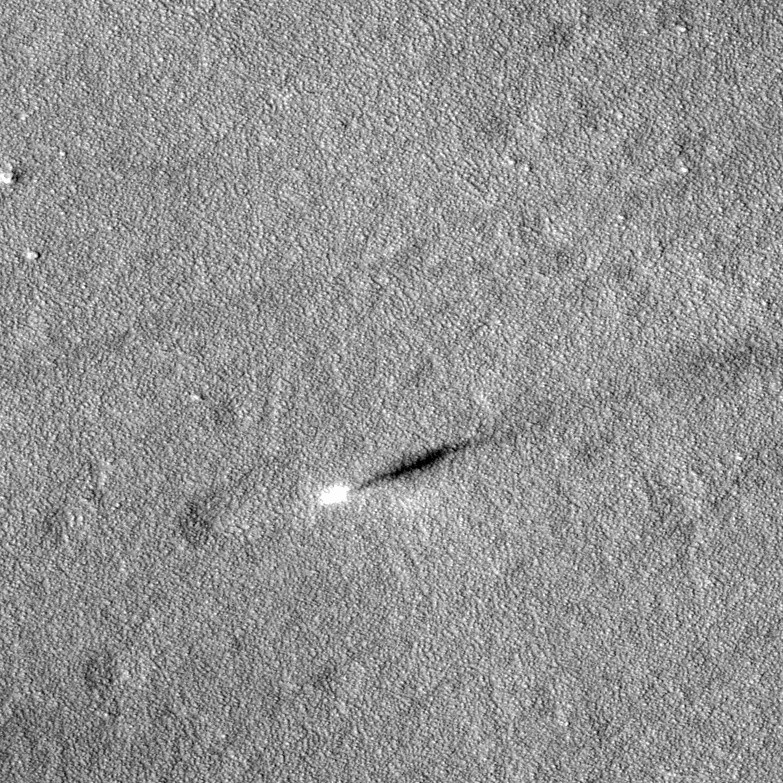dust_devil: (312, 431, 500, 508)
